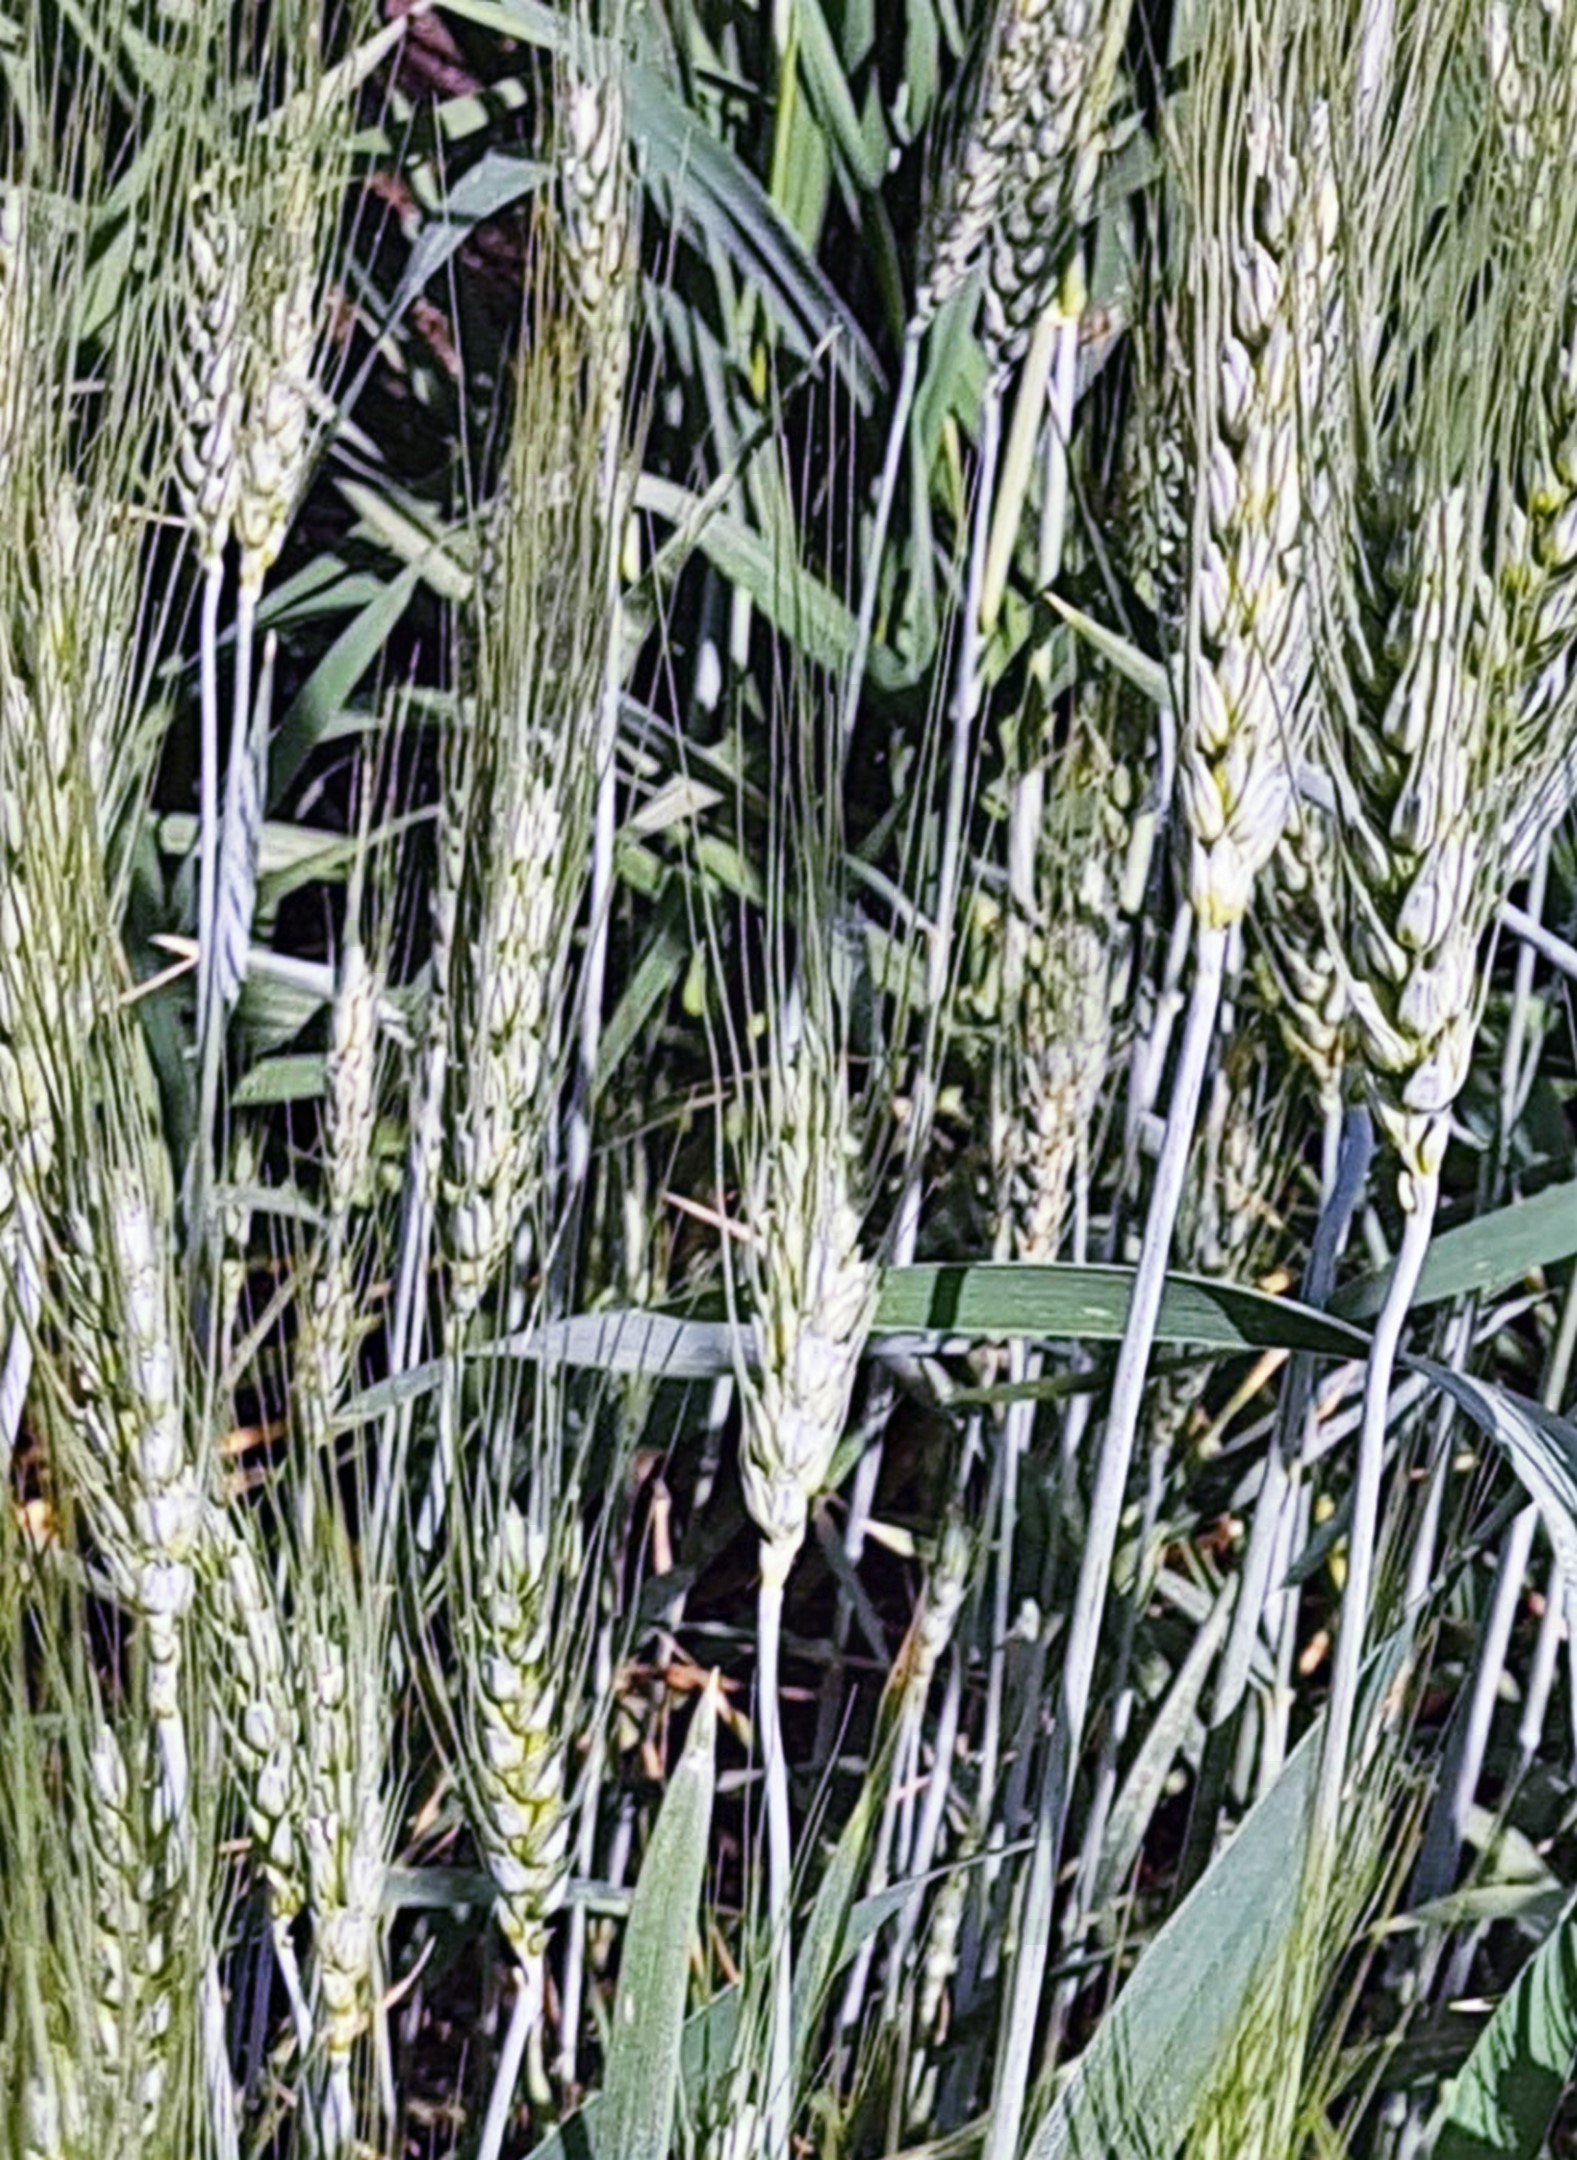Healthy Wheat: (1149, 102, 1419, 954), (433, 1489, 639, 1939)
